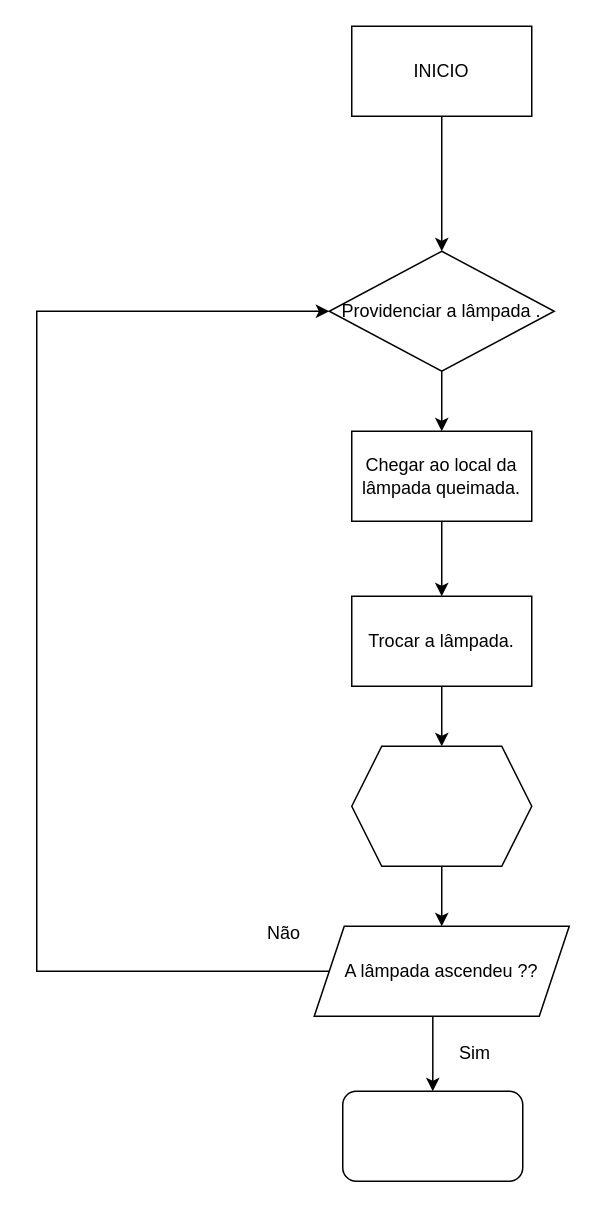
Some shapes in this 596 by 1208 pixel diagram are drawn without their labels. Here are the shapes that lost their labels. From the top down, the centre of each, then its label:
pixel 441 805: Acionar o interruptor.
pixel 432 1135: Fim
